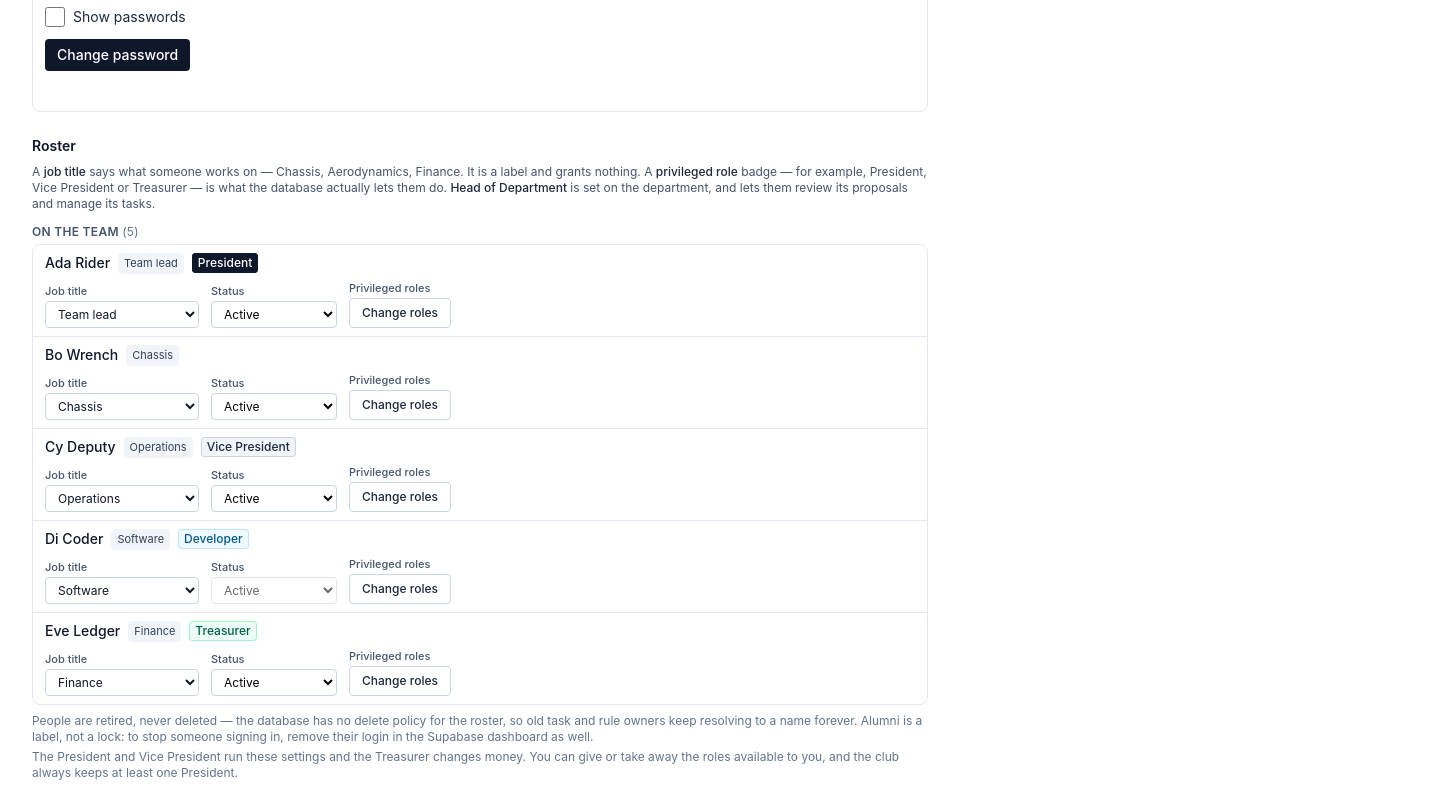
Scenario: role management › Back and Cancel leave everything as it was
(page scrolled)
Click the button with aria-label "Change roles for Bo Wrench".
click(400, 405)  # box [349,390,451,420]
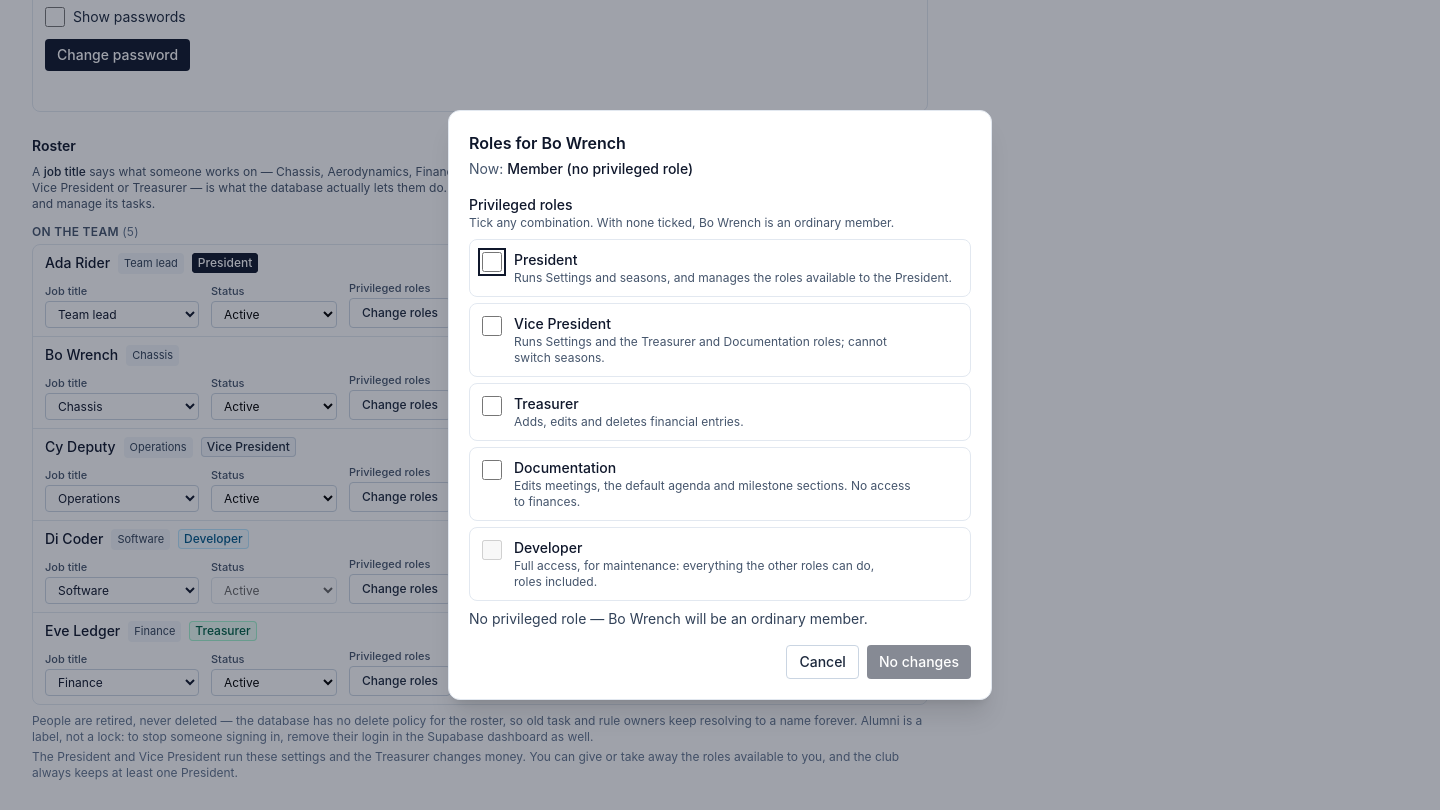
Click the 1st checkbox.
click(492, 262)  # box [482,252,502,272]
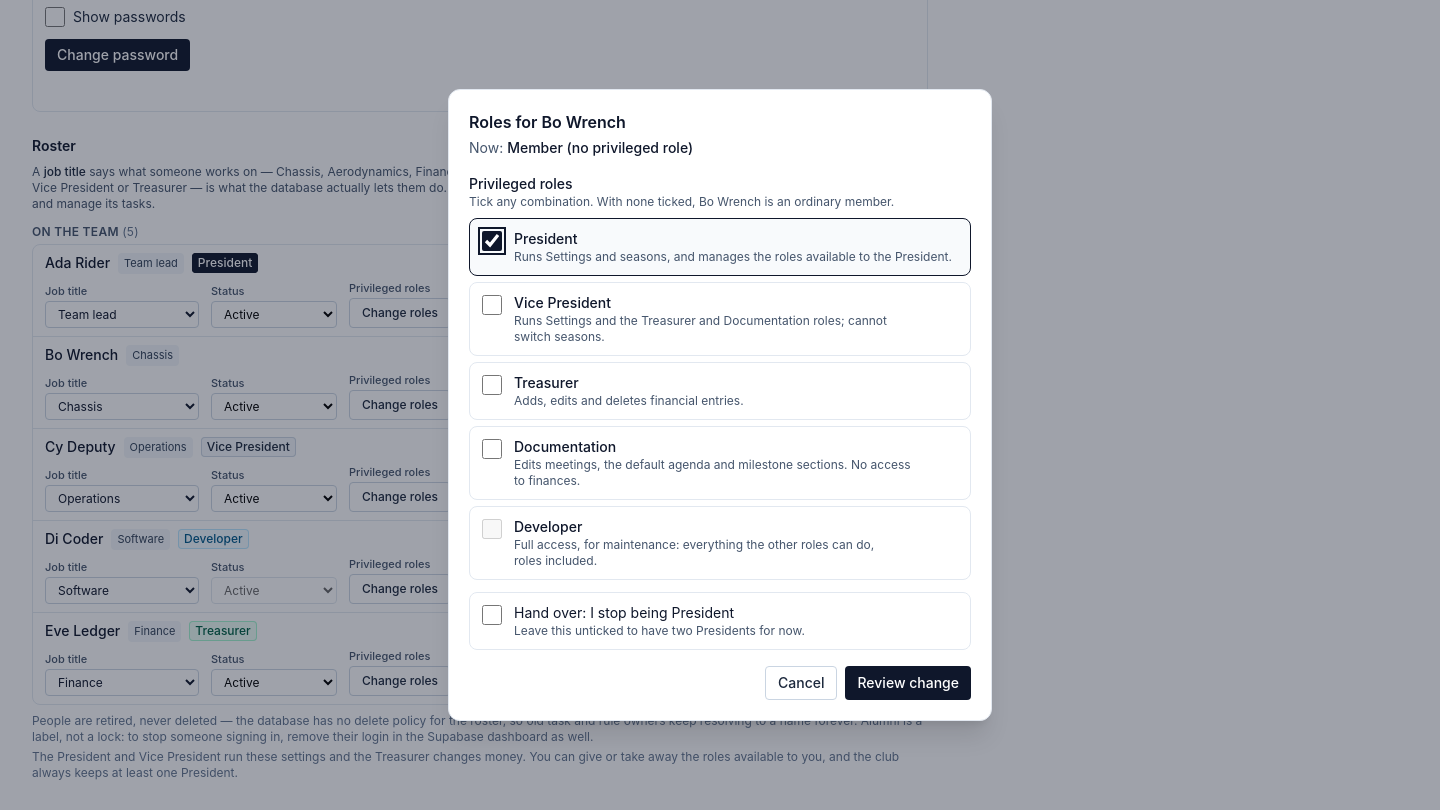
Click the button "Review change".
click(908, 683)  # box [846,666,971,700]
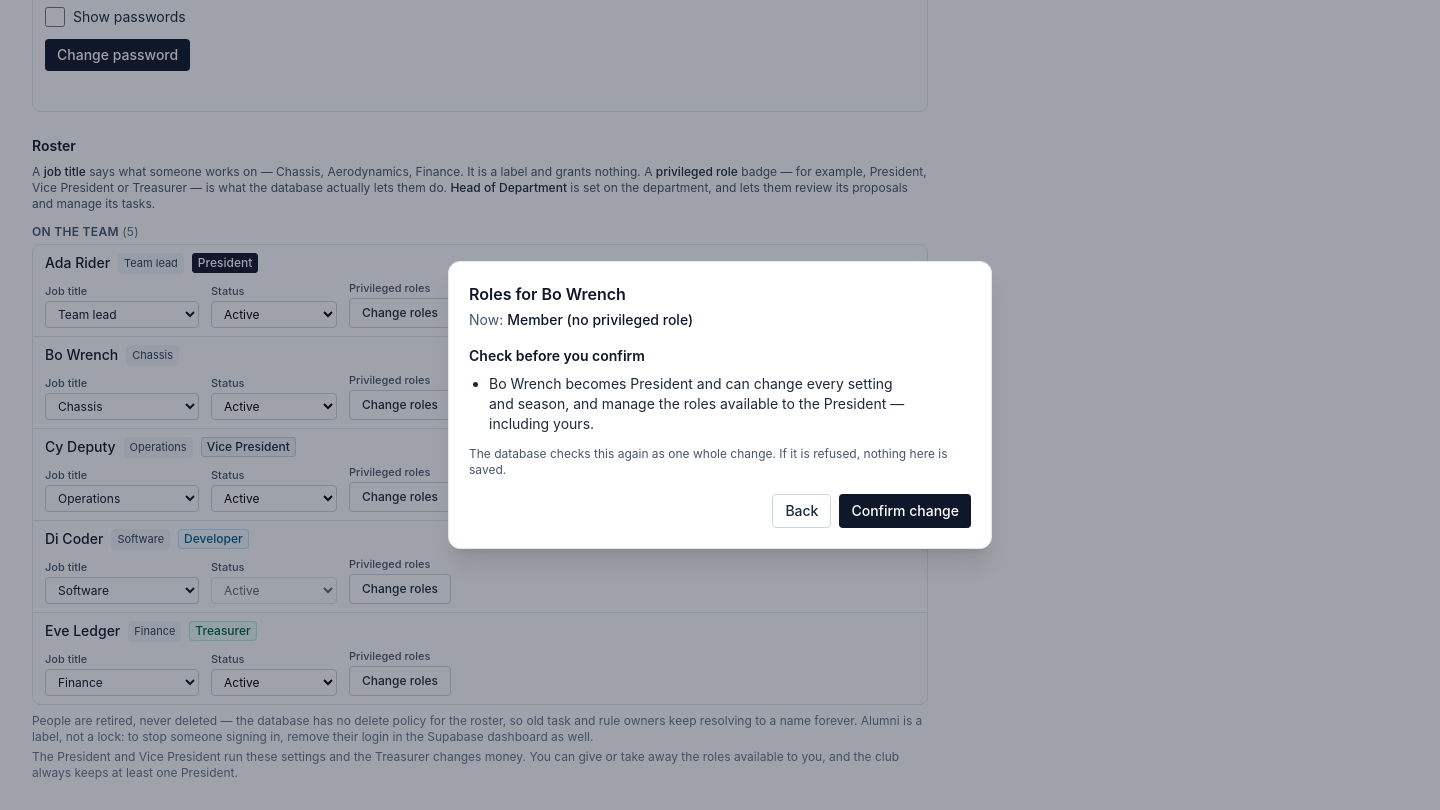
Click the button "Back".
click(802, 511)  # box [772,494,832,528]
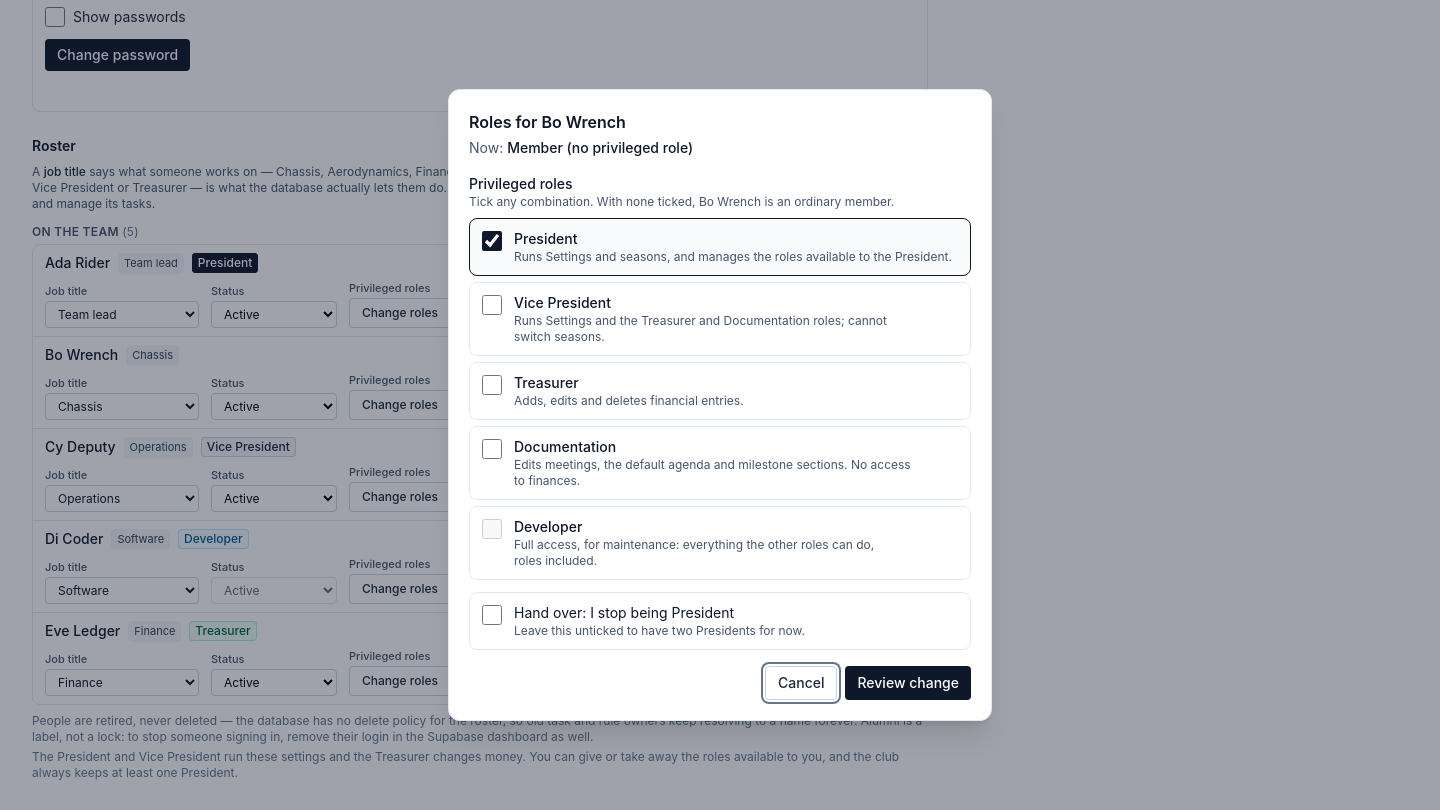
Click the button "Cancel".
click(801, 683)  # box [765,666,838,700]
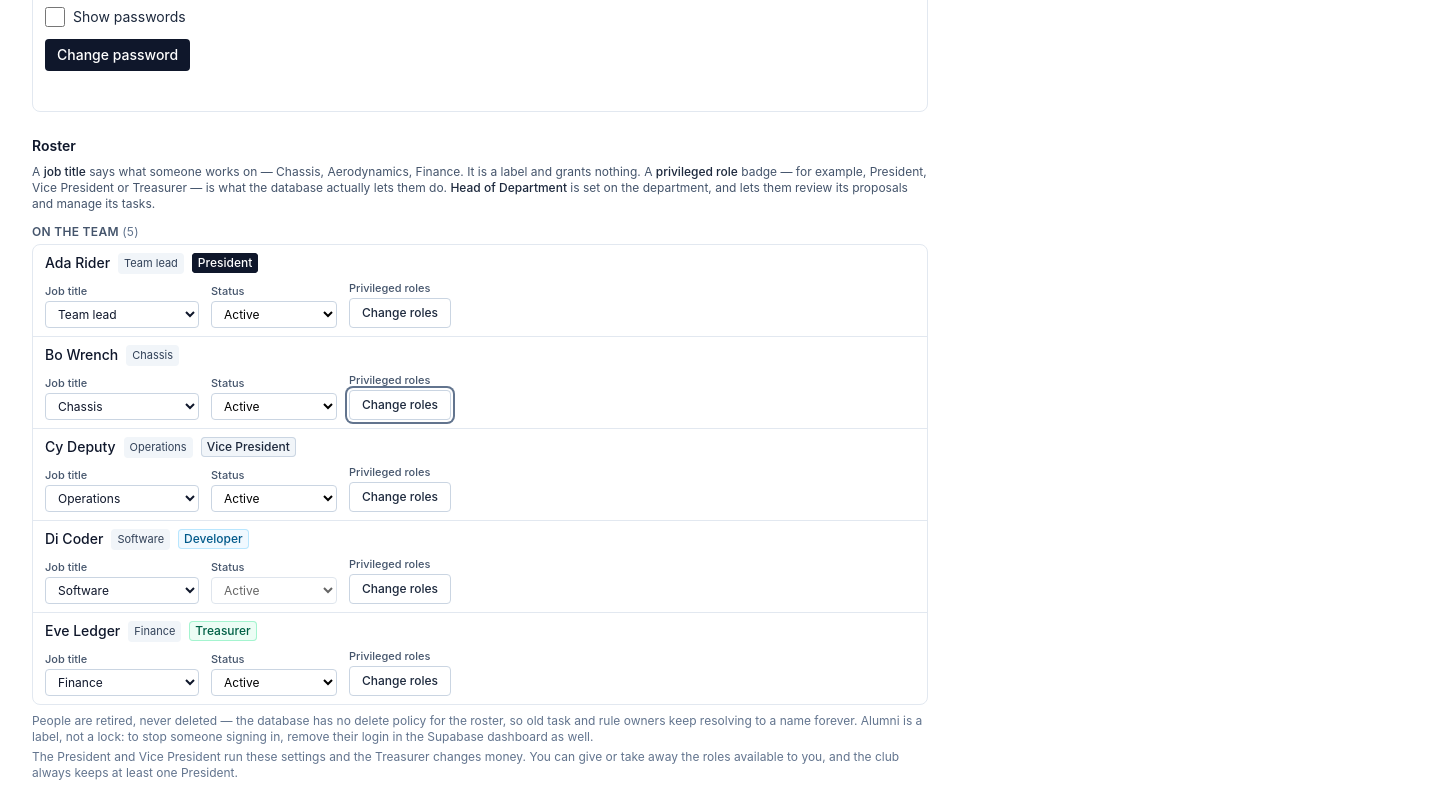
Result: the button "Review change" is gone
